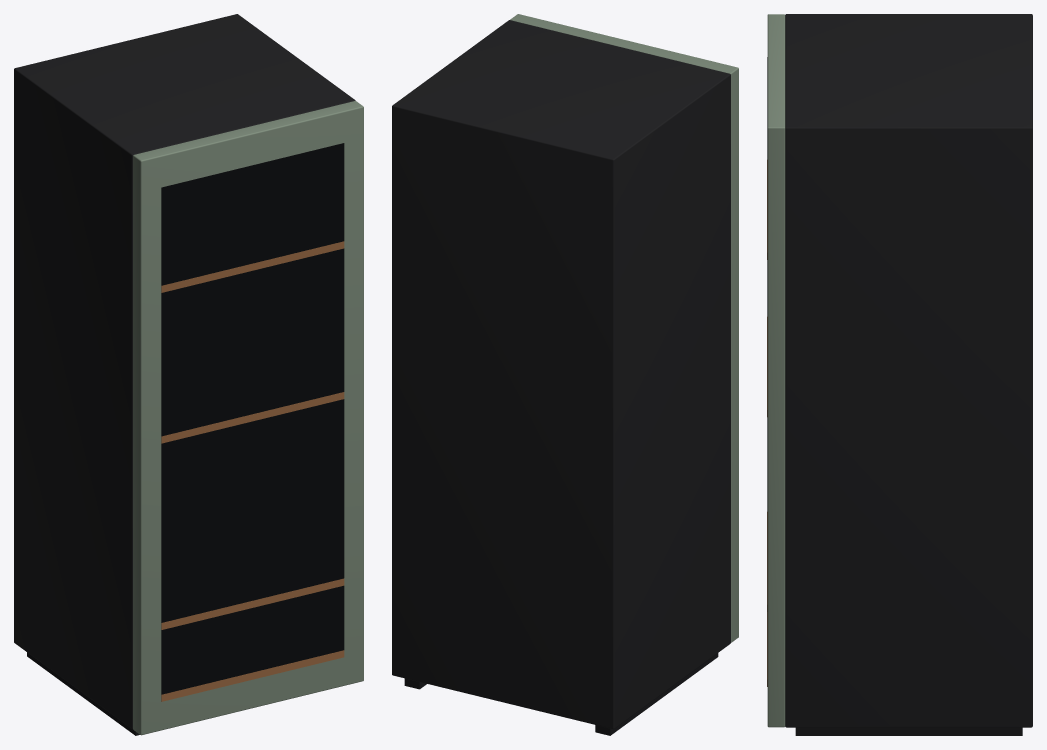
The picture shows the model from 3 angles, left to right: view 1: azimuth 30°, elevation 25°; view 2: azimuth 150°, elevation 25°; view 3: azimuth 270°, elevation 25°; orthographic projection. The views are drawn at different scales.
Visible parts, largest first — view 1: body, display_glass, door_0_frame, wood_shelf_2, wood_shelf_3, wood_shelf_4, wood_shelf_1; view 2: body, door_0_frame, trim_foot_left; view 3: body, door_0_frame, trim_foot_right, display_glass.
Boxes of the visible parts, x1,y1,x2,y2 form: body: (14, 14, 355, 728); display_glass: (161, 143, 344, 694); door_0_frame: (133, 101, 363, 735); wood_shelf_2: (161, 392, 344, 443); wood_shelf_3: (161, 578, 344, 629); wood_shelf_4: (161, 650, 344, 701); wood_shelf_1: (161, 241, 344, 292); body: (392, 20, 730, 729); door_0_frame: (510, 14, 738, 642); trim_foot_left: (595, 653, 718, 735); body: (785, 14, 1032, 727); door_0_frame: (767, 14, 785, 727); trim_foot_right: (795, 727, 1022, 735); display_glass: (767, 57, 767, 686).
Size of the model in its own units: 0.595 by 1.49 by 0.585.
